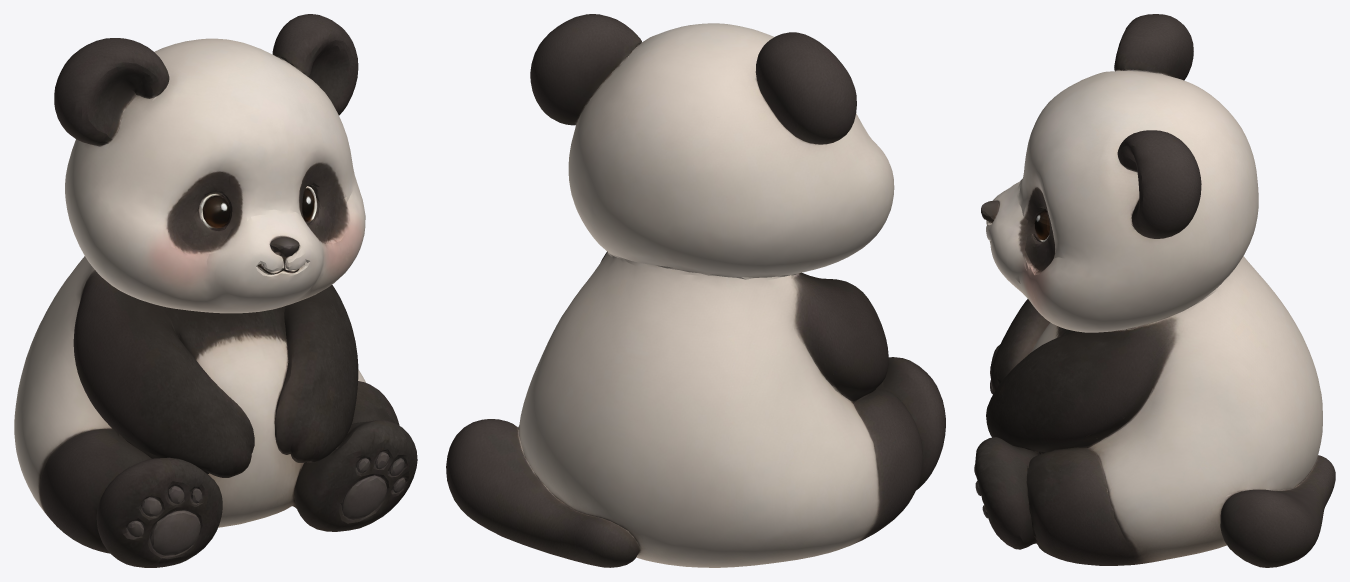
The model's file is panda.glb.
The picture shows the model from 3 angles, left to right: view 1: azimuth 30°, elevation 25°; view 2: azimuth 150°, elevation 25°; view 3: azimuth 270°, elevation 25°; orthographic projection. The views are drawn at different scales.
Visible parts, largest first — view 1: Mesh; view 2: Mesh; view 3: Mesh.
Boxes of the visible parts, <box> form: Mesh: <box>14,14,417,567</box>; Mesh: <box>446,14,945,567</box>; Mesh: <box>974,14,1335,567</box>.
Bounding box in the file's own units: 1.49 × 1.9 × 1.39.
Materials: 1 (1 with a texture image).
